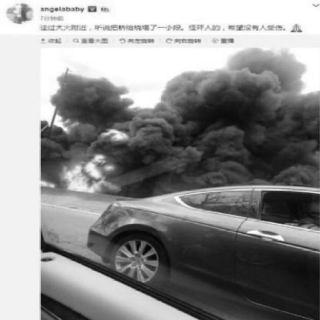Fire: (40, 120, 136, 198)
Smoke: (130, 79, 308, 183)
